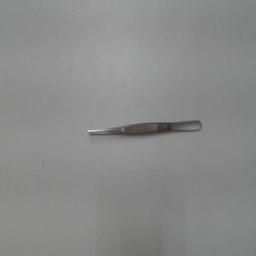Gillies Toothed Dissector: (84, 116, 204, 140)
